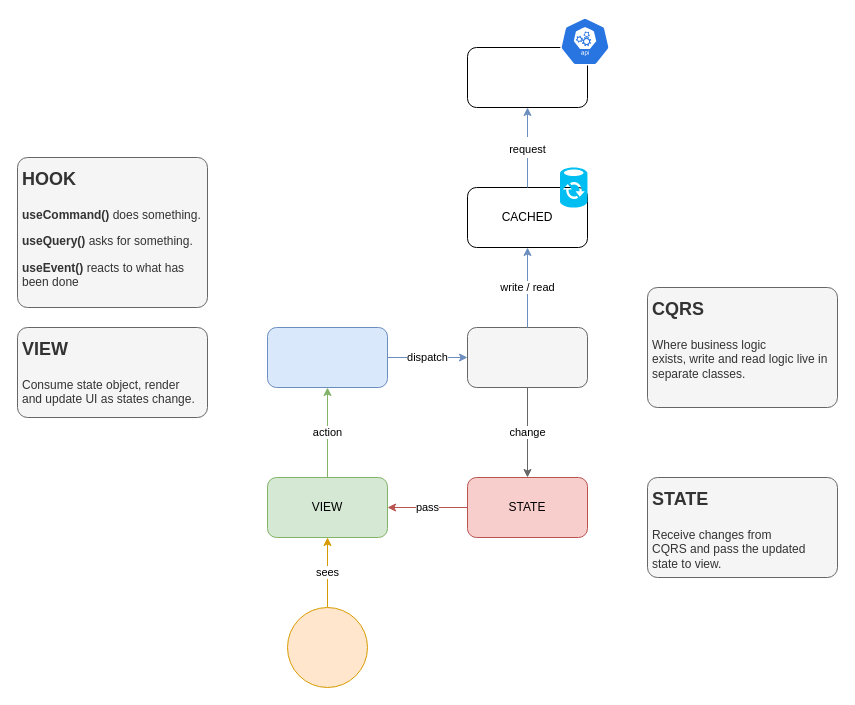
Some shapes in this 855 by 705 pixel diagram are drawn without their labels. Each missing label, with the box of its shape:
API: (466, 46, 588, 108)
CQRS: (466, 326, 588, 388)
HOOK: (266, 326, 388, 388)
USER: (286, 606, 368, 688)
